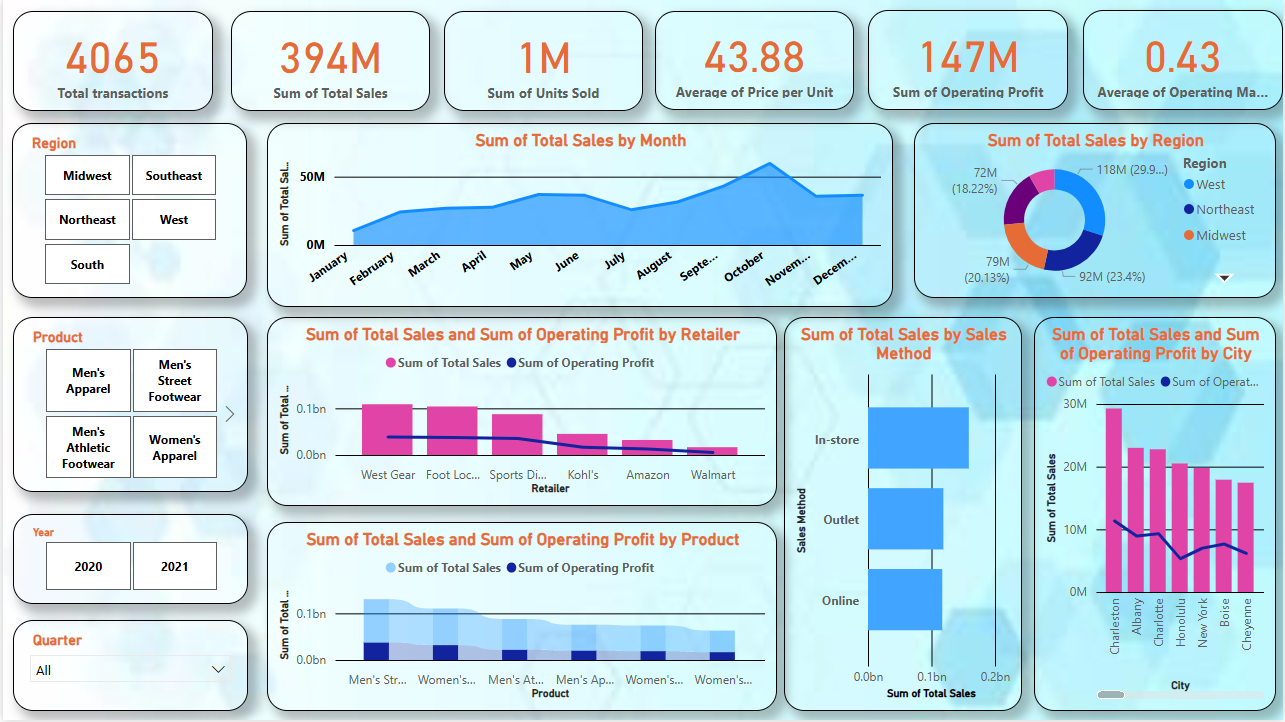

The page's visual inventory and layout, read from the dashboard file:
{"tool":"powerbi","page":{"name":"Page 1","canvas":[1280,720],"ordinal":0},"visuals":[{"type":"card","fields":{"Values":["Sales Report.Total transactions"]},"box":[9.7,10.7,200.4,100.2],"z":0},{"type":"card","fields":{"Values":["Sum(Sales Report.Units Sold)"]},"box":[440.6,10.7,199.4,100.2],"z":1},{"type":"card","fields":{"Values":["Avg(Sales Report.Price per Unit)"]},"box":[651.7,10.7,199.4,99.2],"z":2},{"type":"card","fields":{"Values":["Avg(Sales Report.Operating Margin)"]},"box":[1079.6,9.7,200.4,100.2],"z":3},{"type":"card","fields":{"Values":["Sum(Sales Report.Operating Profit)"]},"box":[865.1,9.7,200.4,100.2],"z":4},{"type":"card","fields":{"Values":["Sum(Sales Report.Total Sales)"]},"box":[227.6,10.7,199.4,100.2],"z":5},{"type":"slicer","fields":{"Values":["Sales Report.Region"]},"box":[9,123,235,175],"z":6},{"type":"slicer","fields":{"Values":["Sales Report.Product"]},"box":[10,317,235,175],"z":7},{"type":"slicer","fields":{"Values":["Sales Report.Invoice Date.Variation.Date Hierarchy.Quarter"]},"box":[10,620,235,91],"z":8},{"type":"slicer","fields":{"Values":["Sales Report.Invoice Date.Variation.Date Hierarchy.Year"]},"box":[9.7,513.6,235.4,90],"z":9},{"type":"stackedAreaChart","fields":{"Category":["Sales Report.Invoice Date.Variation.Date Hierarchy.Month"],"Y":["Sum(Sales Report.Total Sales)"]},"box":[264,123,626,184],"z":10},{"type":"lineStackedColumnComboChart","fields":{"Category":["Sales Report.Retailer"],"Y":["Sum(Sales Report.Total Sales)"],"Y2":["Sum(Sales Report.Operating Profit)"]},"box":[264,317,510,189],"z":11},{"type":"barChart","fields":{"Category":["Sales Report.Sales Method"],"Y":["Sum(Sales Report.Total Sales)"]},"box":[781,317,238,394],"z":13},{"type":"lineStackedColumnComboChart","fields":{"Y":["Sum(Sales Report.Total Sales)"],"Y2":["Sum(Sales Report.Operating Profit)"],"Category":["Sales Report.City"]},"box":[1031,317,242,394],"z":14},{"type":"donutChart","fields":{"Y":["Sum(Sales Report.Total Sales)"],"Category":["Sales Report.Region"]},"box":[911,123,362,175],"z":15},{"type":"ribbonChart","fields":{"Category":["Sales Report.Product"],"Y":["Sum(Sales Report.Total Sales)","Sum(Sales Report.Operating Profit)"]},"box":[264,522,510,189],"z":16}]}

Visuals, with their boxes in screenshot pixels (x1, y1, x2, y2), scaled from the page's 1280x720 canvas onto the 1285x722 screenshot:
card - Sales Report.Total transactions: (left=10, top=11, right=211, bottom=111)
card - Sum(Sales Report.Units Sold): (left=442, top=11, right=642, bottom=111)
card - Avg(Sales Report.Price per Unit): (left=654, top=11, right=854, bottom=110)
card - Avg(Sales Report.Operating Margin): (left=1084, top=10, right=1284, bottom=110)
card - Sum(Sales Report.Operating Profit): (left=868, top=10, right=1070, bottom=110)
card - Sum(Sales Report.Total Sales): (left=228, top=11, right=429, bottom=111)
slicer - Sales Report.Region: (left=9, top=123, right=245, bottom=299)
slicer - Sales Report.Product: (left=10, top=318, right=246, bottom=493)
slicer - Sales Report.Invoice Date.Variation.Date Hierarchy.Quarter: (left=10, top=622, right=246, bottom=713)
slicer - Sales Report.Invoice Date.Variation.Date Hierarchy.Year: (left=10, top=515, right=246, bottom=605)
stackedAreaChart - Sales Report.Invoice Date.Variation.Date Hierarchy.Month x Sum(Sales Report.Total Sales): (left=265, top=123, right=893, bottom=308)
lineStackedColumnComboChart - Sales Report.Retailer x Sum(Sales Report.Total Sales): (left=265, top=318, right=777, bottom=507)
barChart - Sales Report.Sales Method x Sum(Sales Report.Total Sales): (left=784, top=318, right=1023, bottom=713)
lineStackedColumnComboChart - Sum(Sales Report.Total Sales) x Sum(Sales Report.Operating Profit): (left=1035, top=318, right=1278, bottom=713)
donutChart - Sum(Sales Report.Total Sales) x Sales Report.Region: (left=915, top=123, right=1278, bottom=299)
ribbonChart - Sales Report.Product x Sum(Sales Report.Total Sales): (left=265, top=523, right=777, bottom=713)
